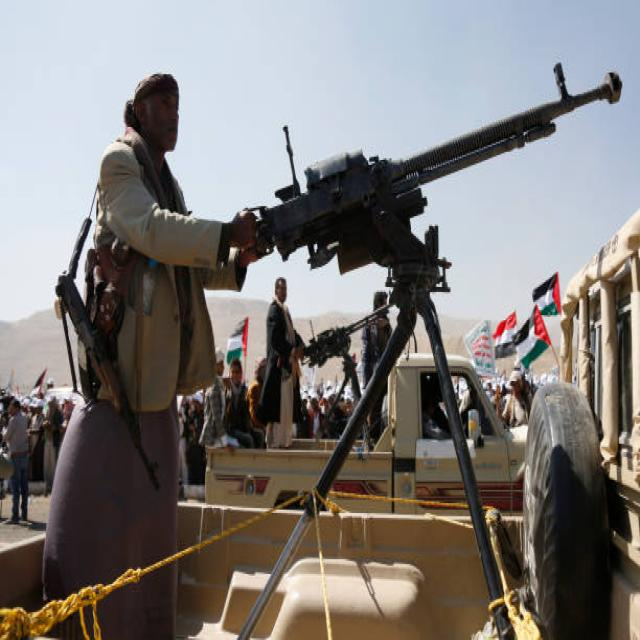terrorist: (43, 74, 255, 599), (259, 277, 302, 447), (99, 566, 176, 638)
